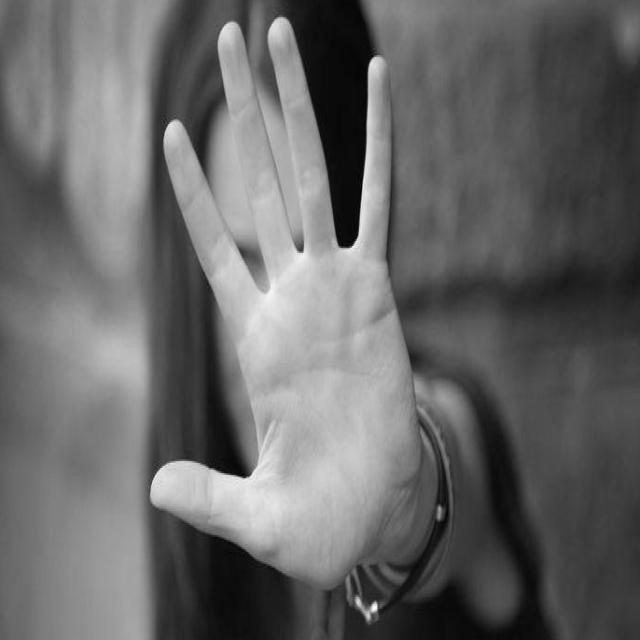stop: (145, 6, 425, 601)
